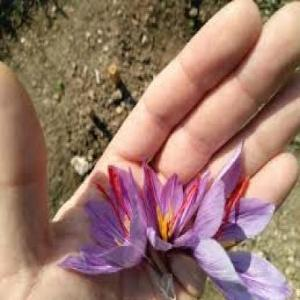Saffron: (185, 140, 294, 300), (63, 163, 152, 275), (139, 162, 212, 253)
